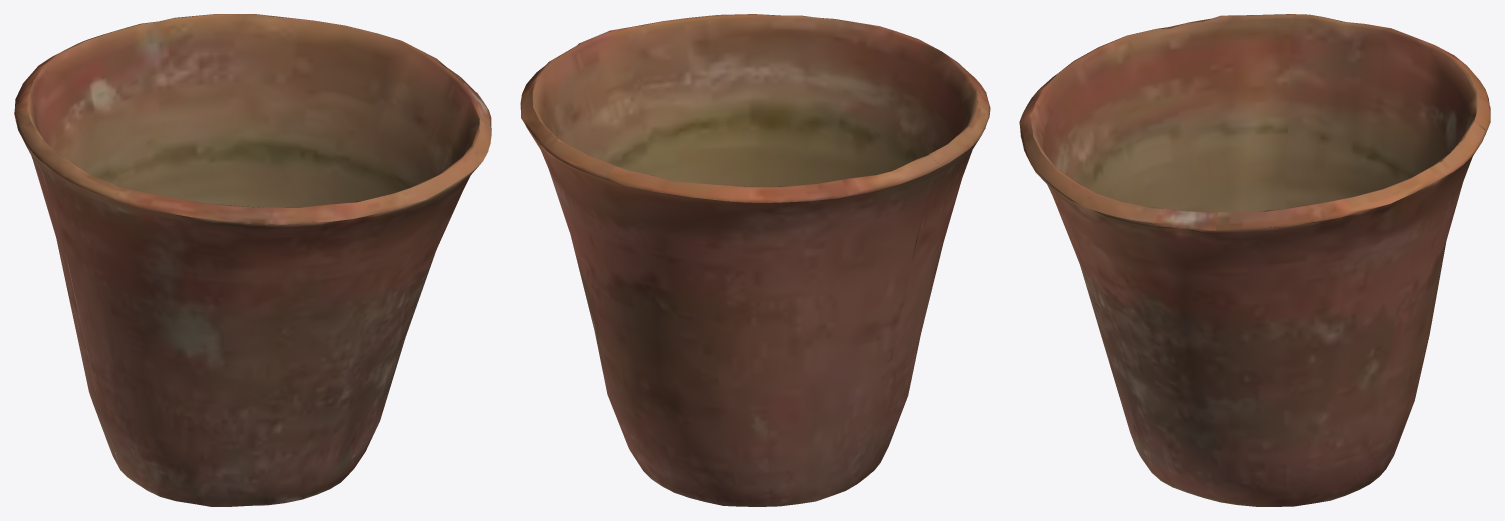
File: planter_pot_clay.glb
3 renders of one model, left to right at view 1: azimuth 30°, elevation 25°; view 2: azimuth 150°, elevation 25°; view 3: azimuth 270°, elevation 25°, orthographic.
Visible parts, largest first — view 1: planter_pot_clay; view 2: planter_pot_clay; view 3: planter_pot_clay.
Boxes of the visible parts, x1,y1,x2,y2 form: planter_pot_clay: [14, 14, 491, 506]; planter_pot_clay: [520, 14, 990, 506]; planter_pot_clay: [1019, 14, 1490, 506].
Bounding box in the file's own units: 0.2663 × 0.2219 × 0.2639.
Materials: 1 (1 with a texture image).
